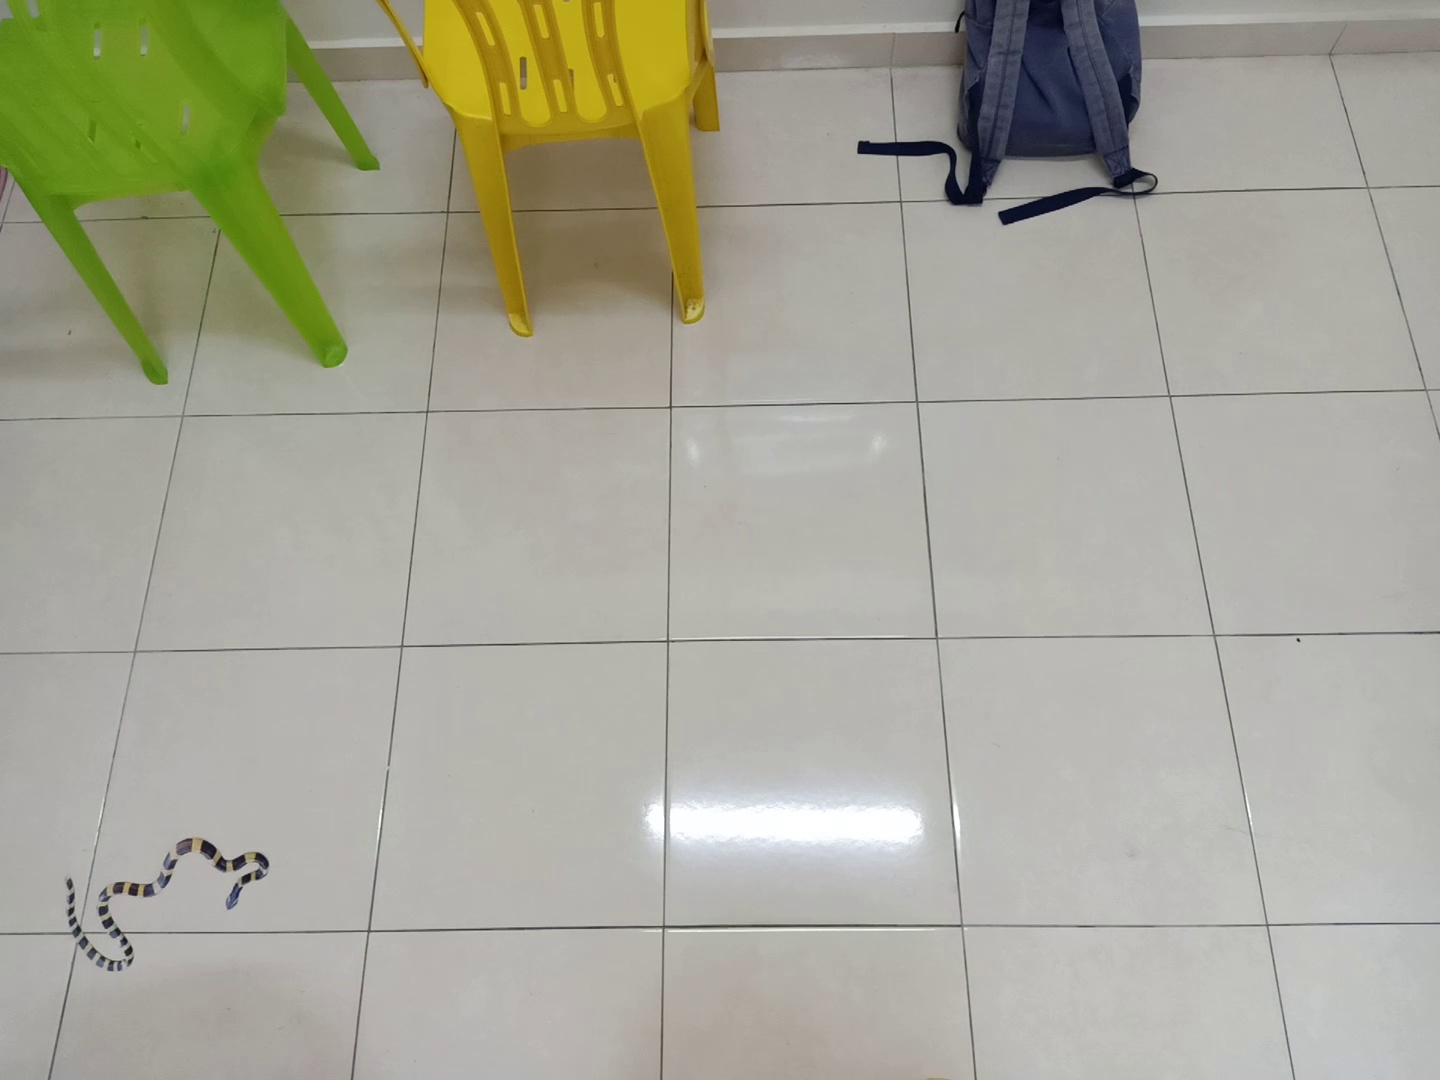snake: (54, 827, 283, 980)
